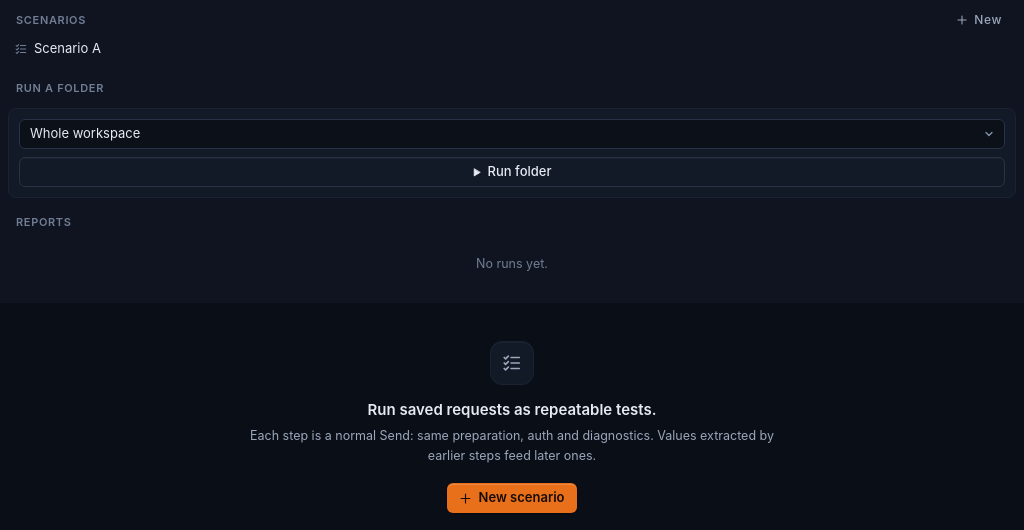
Test: starting a run › ignores the finish of a run that is not the live one
expect the text "Scenario A" is shown: met, box [34,40,101,56]
Click the button "Run folder". click: (512, 172)
box: [19,157,1005,187]
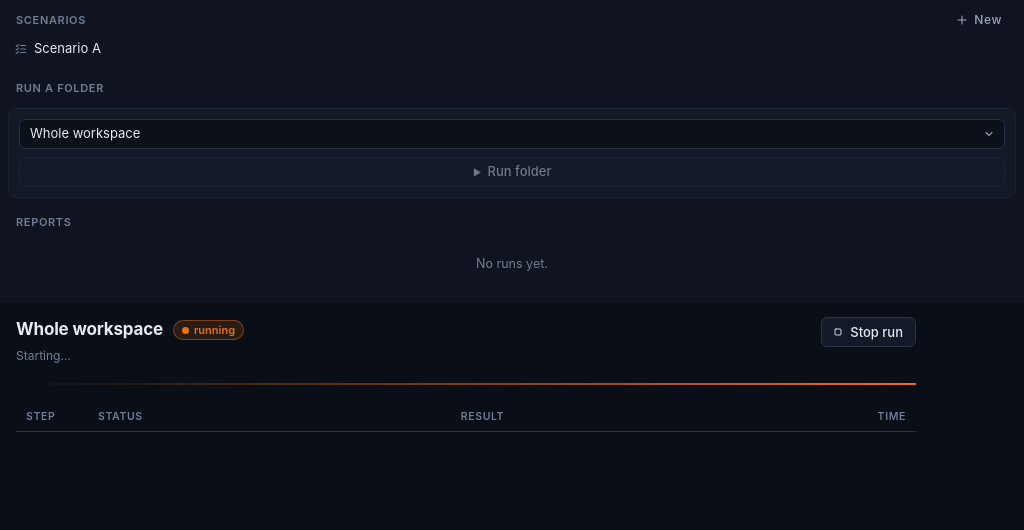
expect the button "Stop run" is shown: met, box [821,317,916,347]
expect the button "Run folder" is disabled: met, box [19,157,1005,187]
